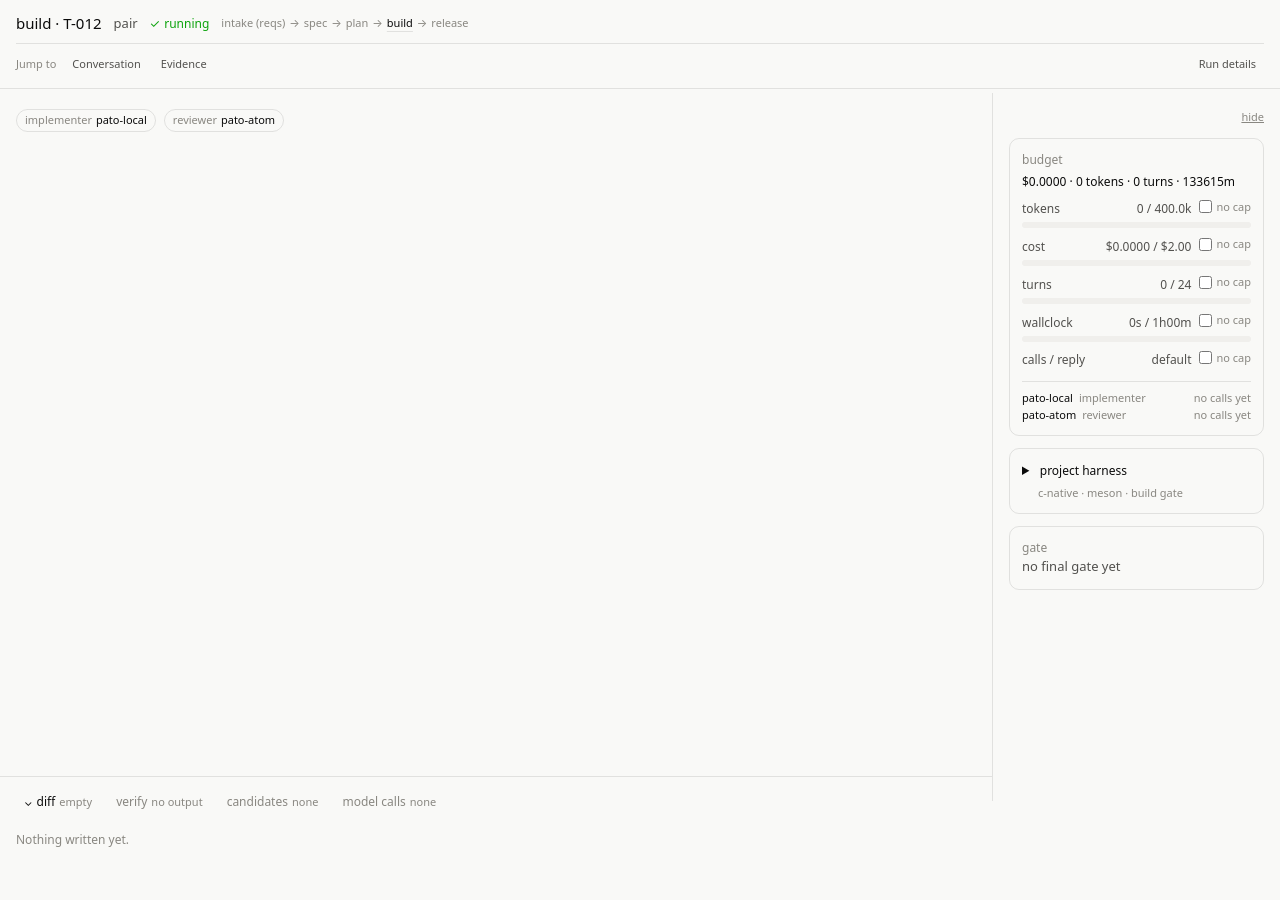
Scenario: the run's budget while it is running › shows the exact harness profile supplied to the coding seats
This screenshot has width=1280, height=900.
expect the text with test id "run-harness-summary" reads "c-native · meson · build gate": met, box left=1038, top=485, right=1183, bottom=500
Click the heading with test id "run-harness-summary".
click(1110, 481)  # box left=1038, top=462, right=1183, bottom=500
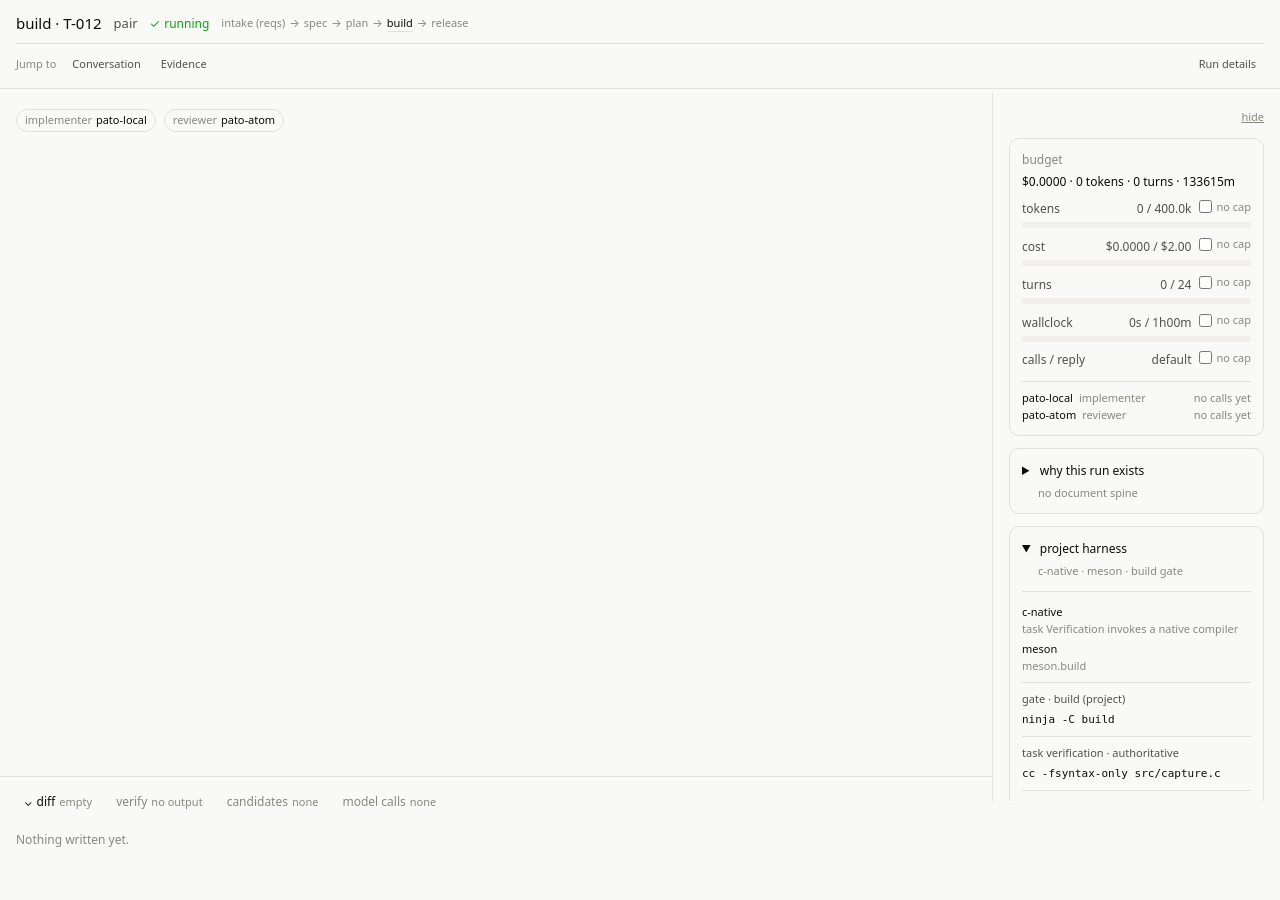
expect the element with test id "run-harness-profile" shows "meson.build": met, box left=1022, top=658, right=1086, bottom=673
expect the text with test id "run-harness-gate" reads "ninja -C build": met, box left=1022, top=713, right=1115, bottom=726
expect the text with test id "run-harness-task-gate" reads "cc -fsyntax-only src/capture.c": met, box left=1022, top=767, right=1221, bottom=780
